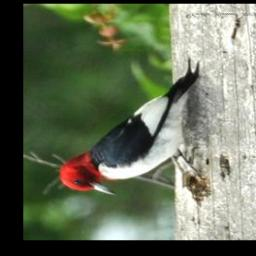Woodpecker: (58, 61, 198, 197)
